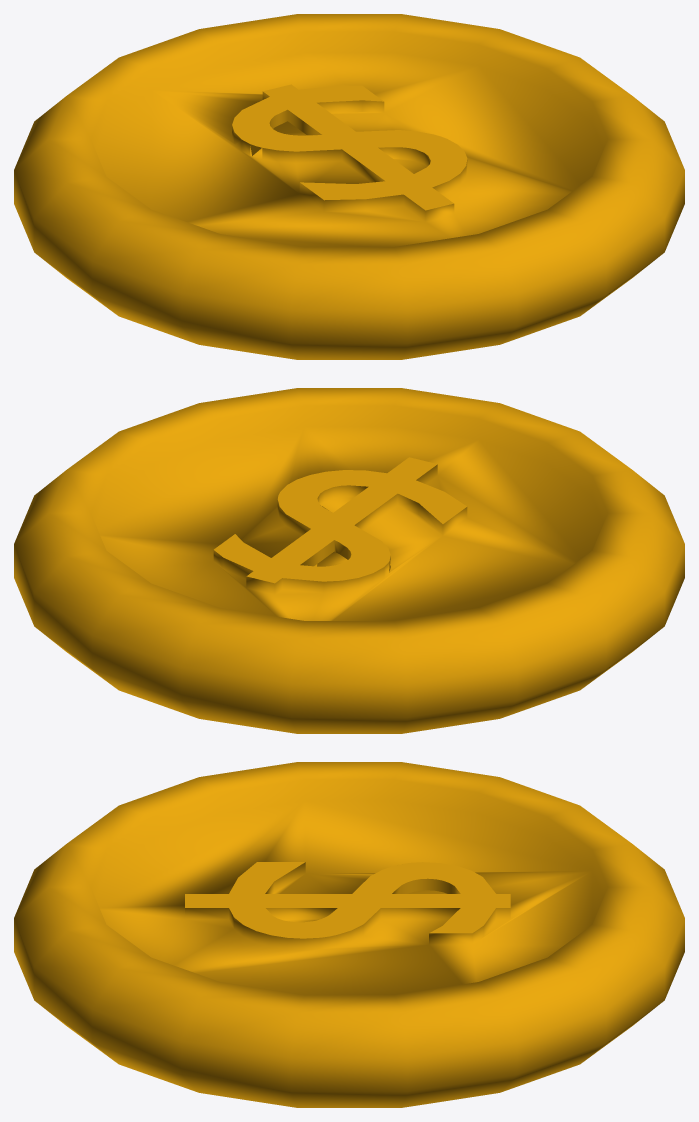
Rendered from coin_new.glb.
The picture shows the model from 3 angles, top to bottom: view 1: azimuth 30°, elevation 25°; view 2: azimuth 150°, elevation 25°; view 3: azimuth 270°, elevation 25°; orthographic projection.
Parts seen in each view (by area): view 1: Coin_New; view 2: Coin_New; view 3: Coin_New.
Part boxes in pixels (x1,y1,x2,y2): Coin_New: (14,14,684,359); Coin_New: (14,388,684,733); Coin_New: (14,762,684,1107).
Bounding box in the file's own units: 1.97 × 0.3135 × 2.
